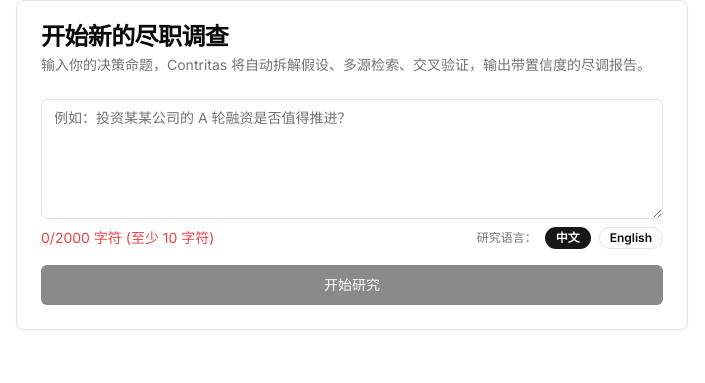
Scenario: <InputForm /> (6.7.3) › shows rate-limit message on HTTP 429 and does not route
Type "投资 A 轮是否值得推进？需要研究市场" into the text box with placeholder "例如：投资某某公司的 A 轮融资是否值得推进？". click: x=352, y=159
box: top-left (41, 99), bottom-right (663, 219)
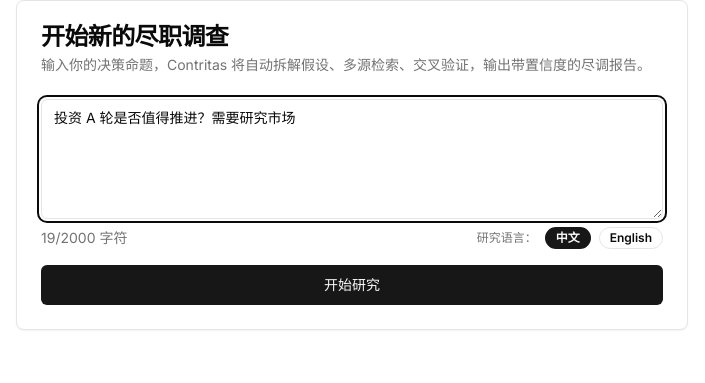
Click the button "开始研究". click: x=352, y=285
box: top-left (41, 265), bottom-right (663, 305)
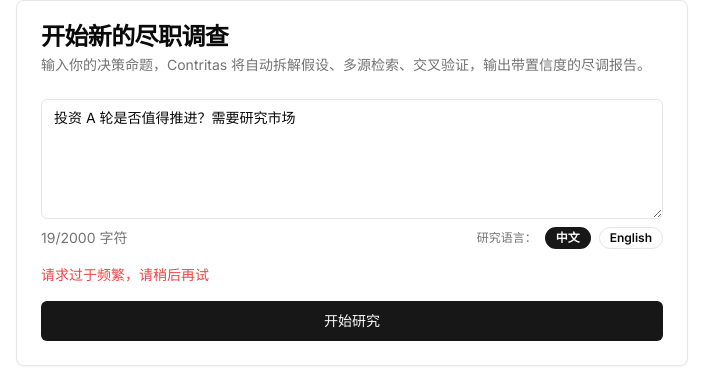
Result: the text "请求过于频繁，请稍后再试" is shown at top-left (41, 266), bottom-right (209, 283)
